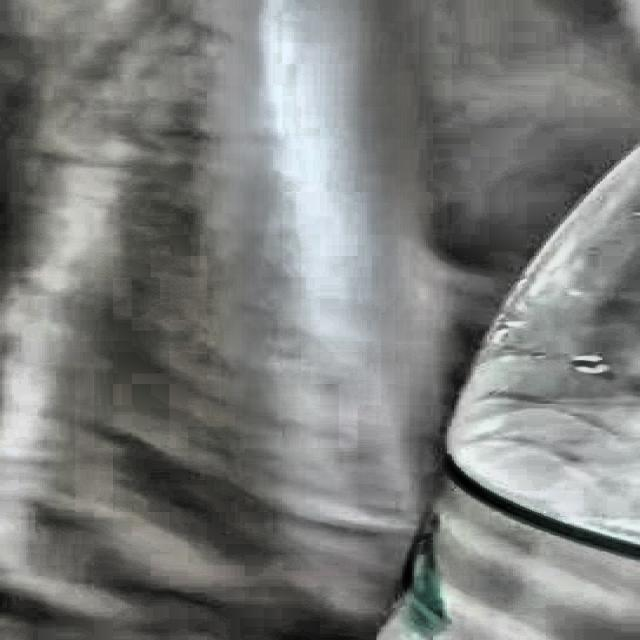plastic: (256, 0, 640, 640)
